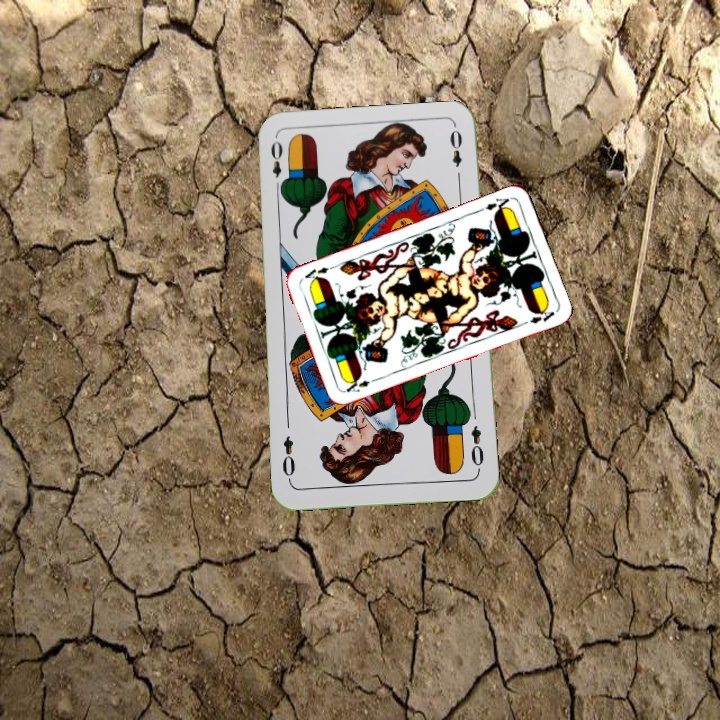EA: (475, 194, 514, 216), (342, 374, 381, 395)
EO: (266, 137, 287, 195), (466, 422, 487, 474)
